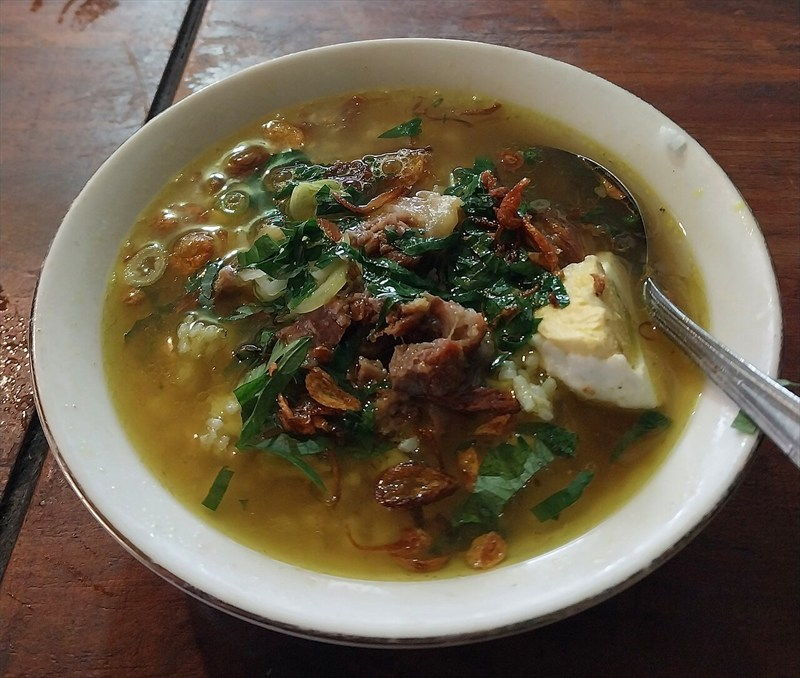Soto Ayam: (52, 61, 784, 645)
